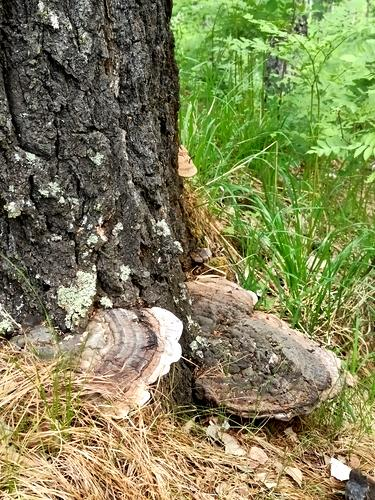Ganoderma - Fruit Body: (183, 276, 345, 421), (1, 306, 181, 423), (172, 145, 205, 179)
